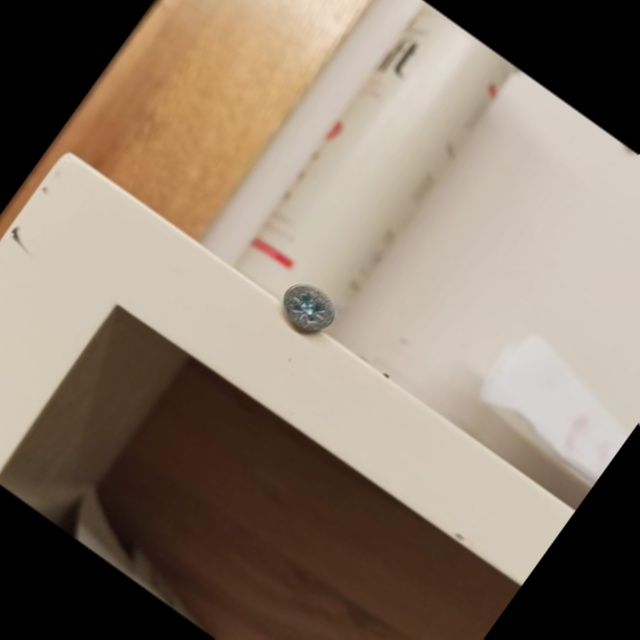pozidriv: (275, 275, 344, 342)
